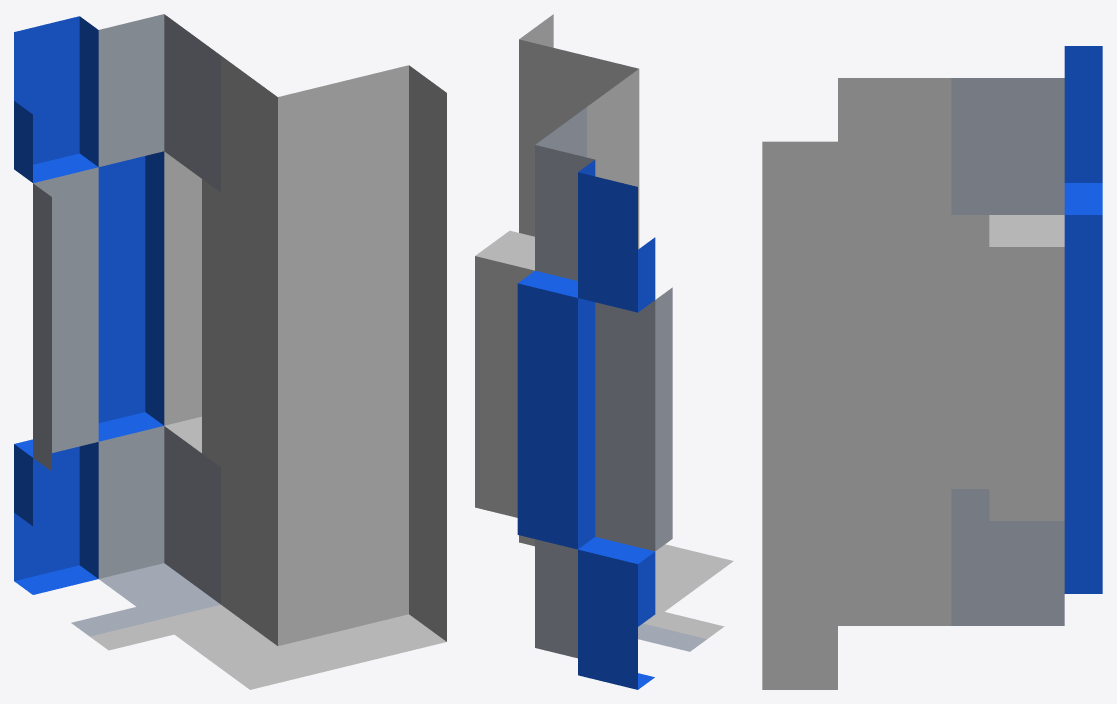
File: cell_21.obj
3 views of the same model, side by side, from view 1: azimuth 30°, elevation 25°; view 2: azimuth 150°, elevation 25°; view 3: azimuth 270°, elevation 25° (orthographic). The views are drawn at different scales.
Size of the model in its own units: 0.5 by 1 by 0.5625.
